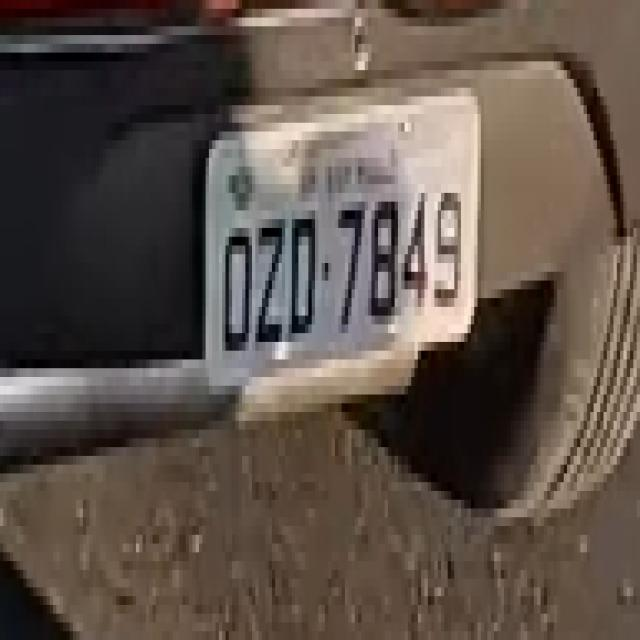Placa_mercosul_carro: (208, 94, 478, 389)
